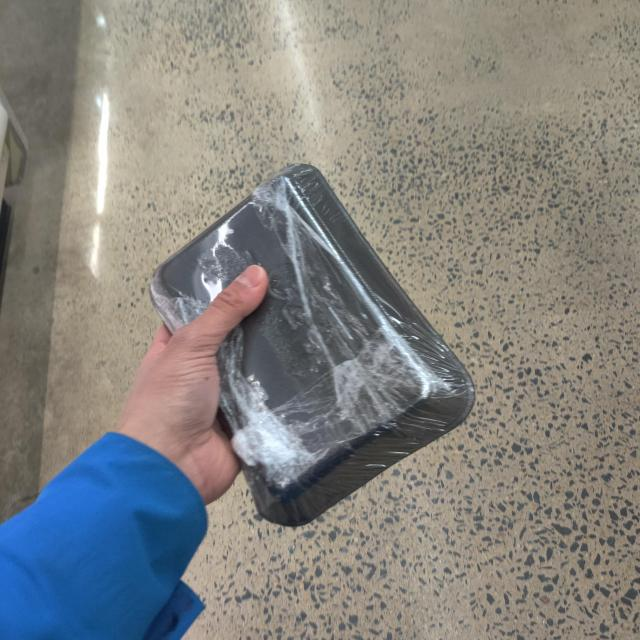Meat: (127, 149, 483, 532)
